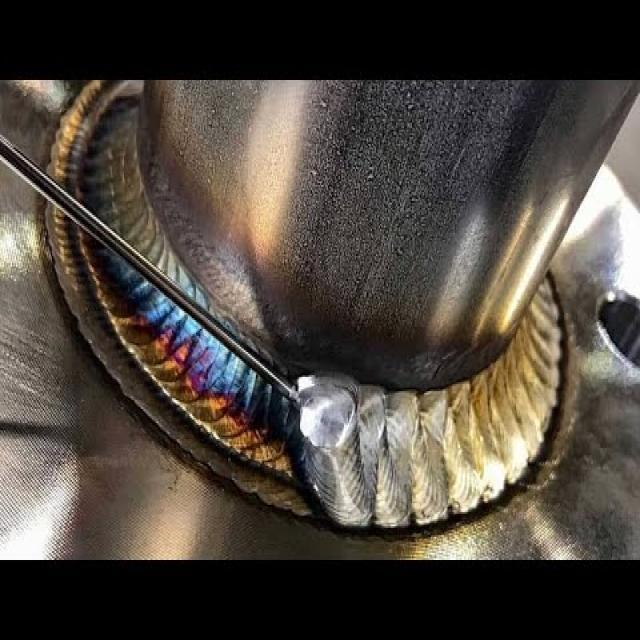Good Welding: (359, 386, 385, 512)
